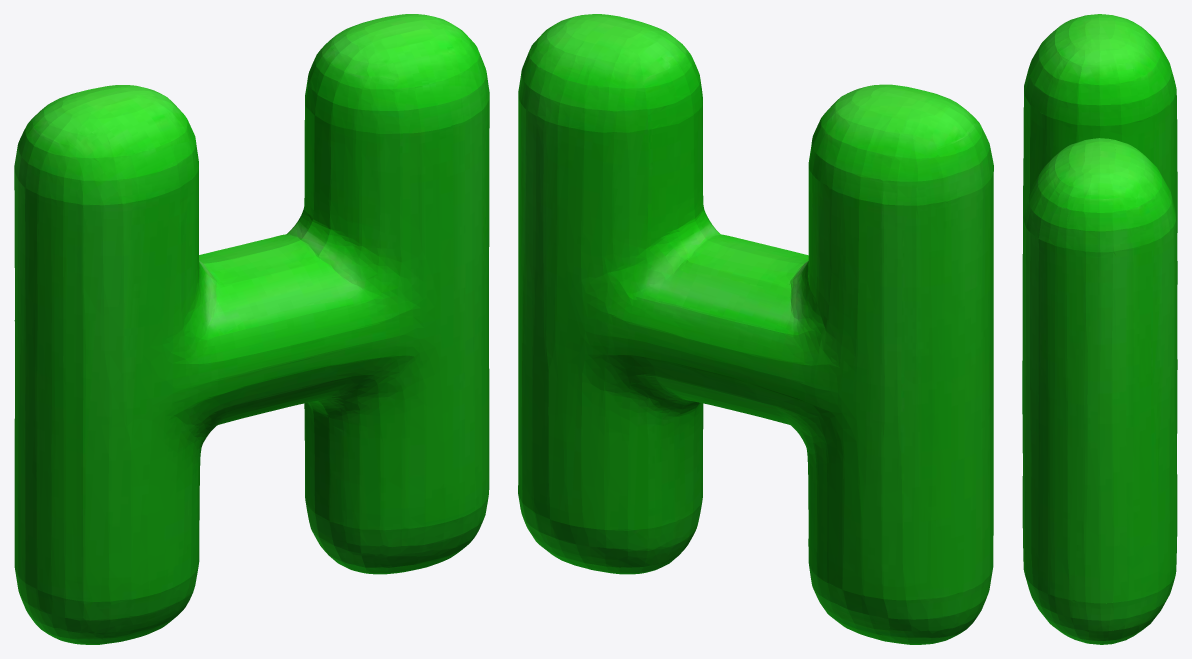
3 views of the same model, side by side, from view 1: azimuth 30°, elevation 25°; view 2: azimuth 150°, elevation 25°; view 3: azimuth 270°, elevation 25° (orthographic). The views are drawn at different scales.
Visible parts, largest first — view 1: geometry_0; view 2: geometry_0; view 3: geometry_0.
Part boxes in pixels (x1=…): geometry_0: x1=14, y1=14, x2=489, y2=644; geometry_0: x1=518, y1=14, x2=993, y2=644; geometry_0: x1=1022, y1=14, x2=1177, y2=644.
Size of the model in its own units: 0.8807 by 0.9992 by 0.294.
Materials: 1 (1 with a texture image).
